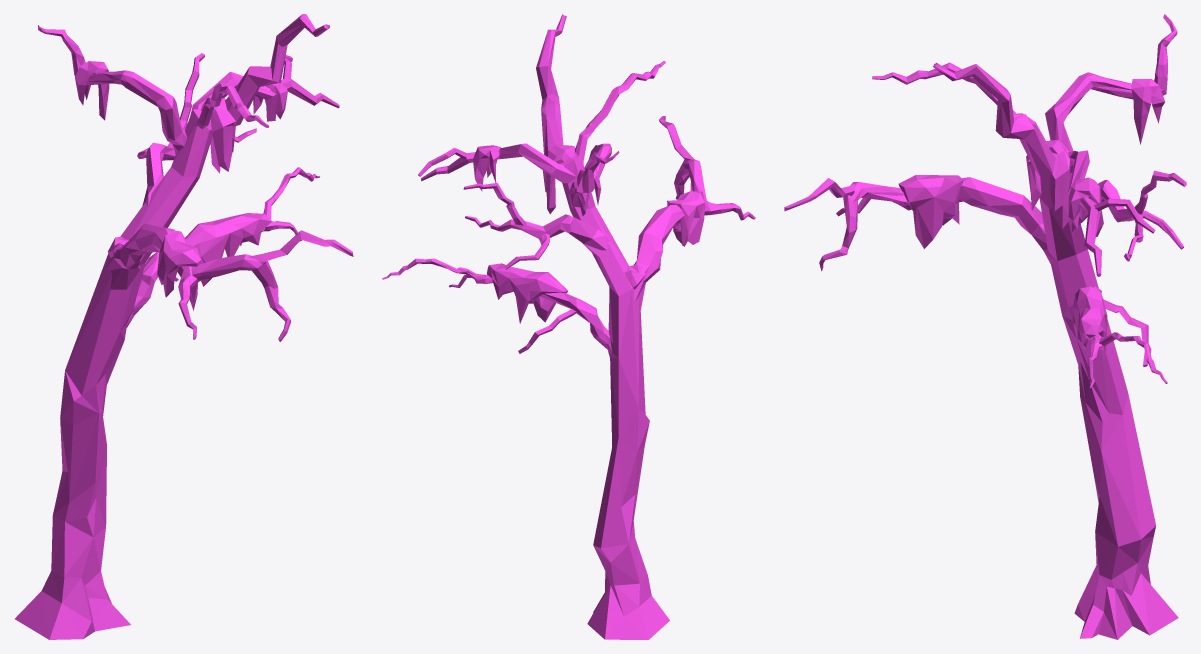
The model's file is SM_Tree_Swamp_C_Fantasy.fbx.
3 views of the same model, side by side, from view 1: azimuth 30°, elevation 25°; view 2: azimuth 150°, elevation 25°; view 3: azimuth 270°, elevation 25° (orthographic). The views are drawn at different scales.
Visible parts, largest first — view 1: SM_Tree_Swamp_C_Fantasy; view 2: SM_Tree_Swamp_C_Fantasy; view 3: SM_Tree_Swamp_C_Fantasy.
Boxes of the visible parts, x1,y1,x2,y2 form: SM_Tree_Swamp_C_Fantasy: (15,14,353,639); SM_Tree_Swamp_C_Fantasy: (382,14,755,639); SM_Tree_Swamp_C_Fantasy: (784,14,1186,639).
Size of the model in its own units: 4.81 by 9.13 by 5.22.
